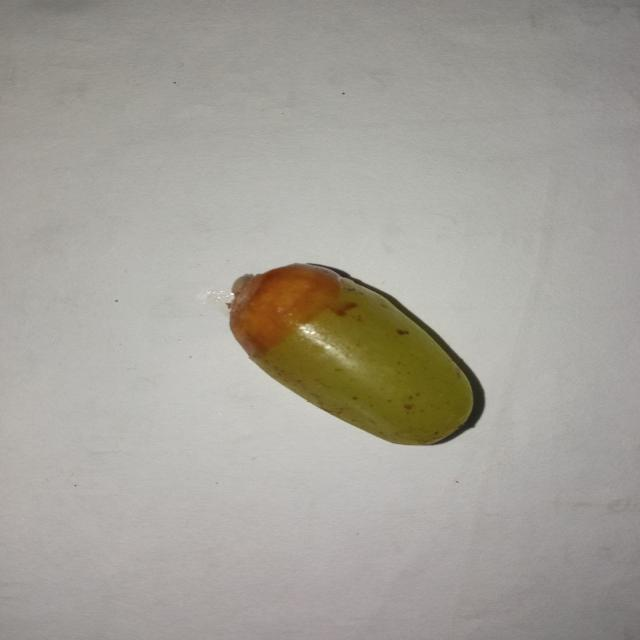rotten_grape: (220, 261, 477, 445)
